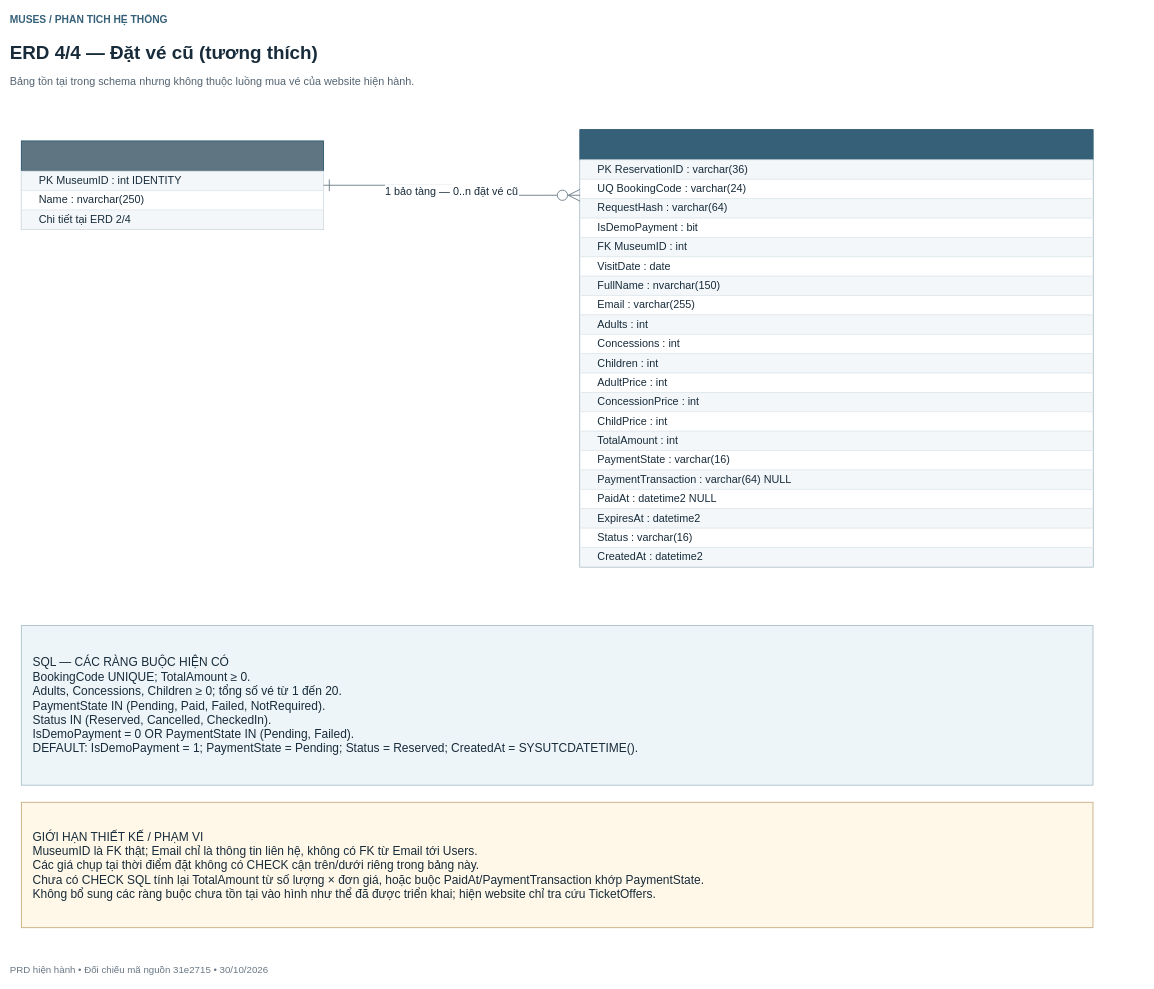
Some shapes in this 1154 by 989 pixel diagram are drawn without their labels. The shapes that lost their labels are listed below. From the top down, each one's centre as x and y in pixels, then its label:
point (172, 155): Museums [tham chiếu]
point (836, 144): TicketReservations
